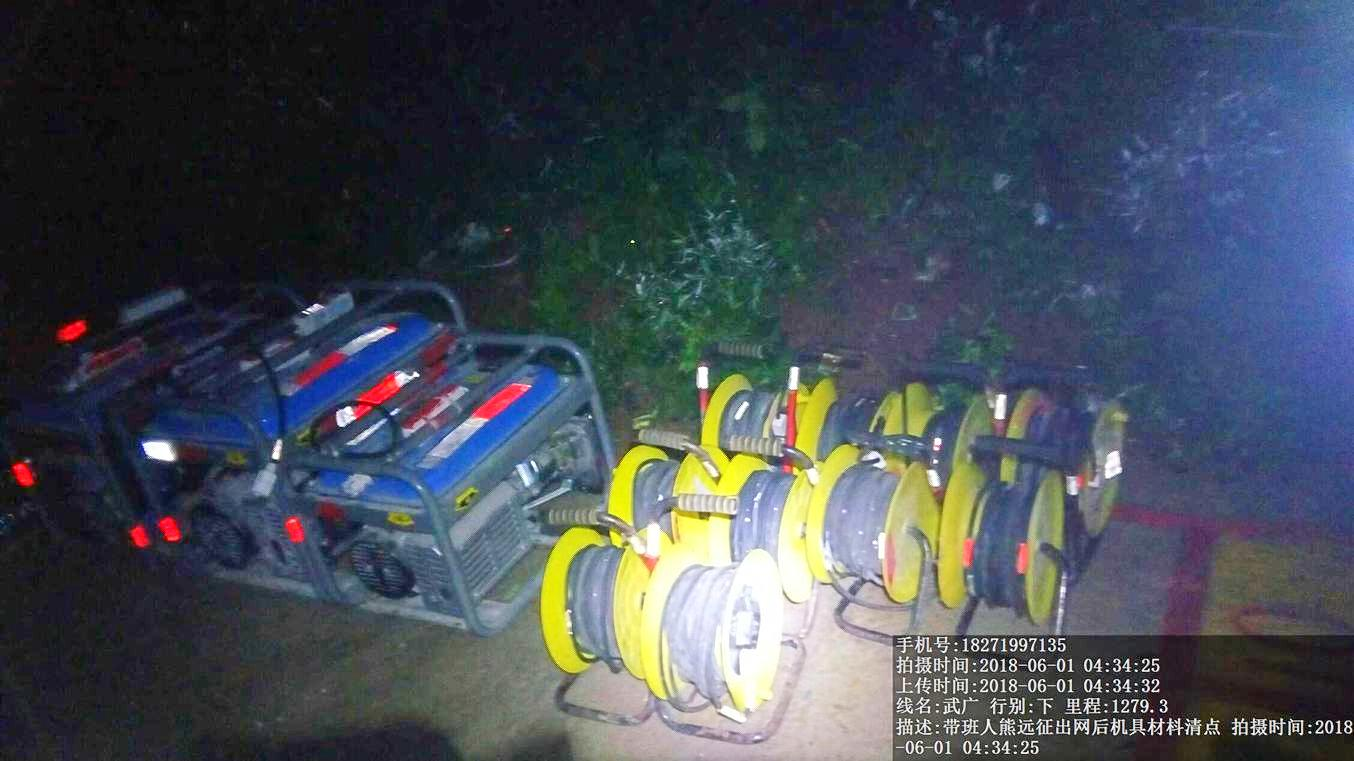DJ: (318, 347, 617, 628)
DX: (636, 545, 807, 745), (814, 440, 942, 631)
